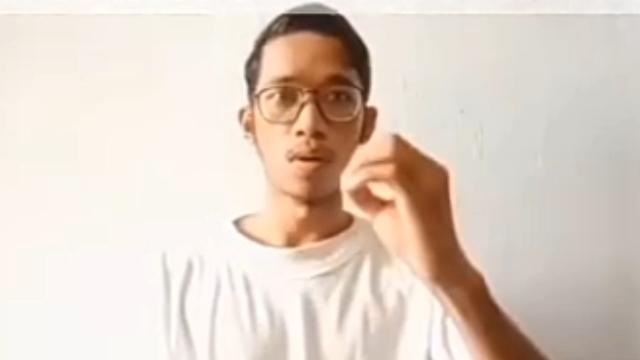O: (338, 128, 469, 274)
